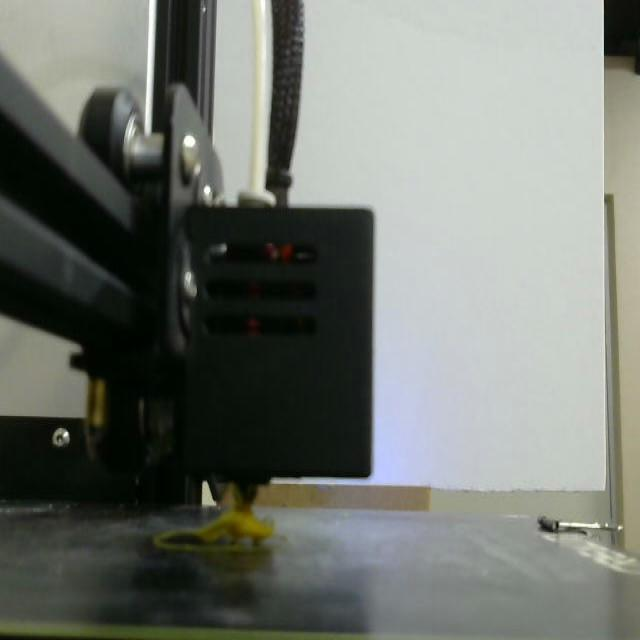spaghetti: (166, 483, 274, 552)
